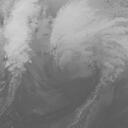cyclone: (32, 41, 96, 95)
